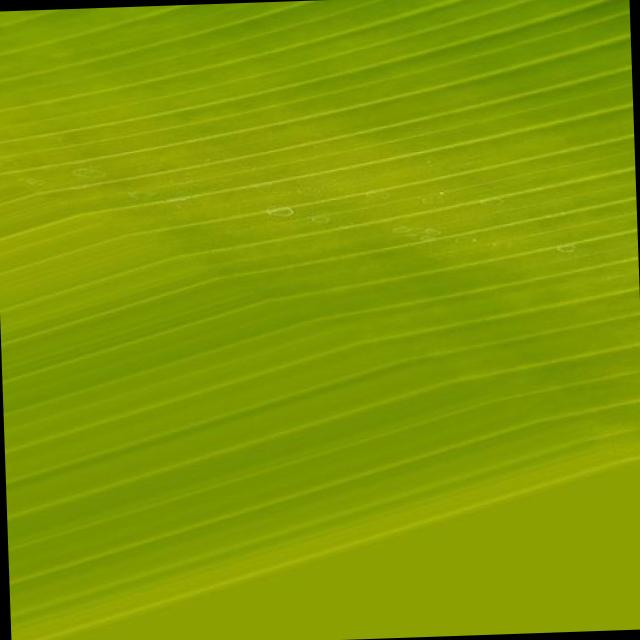Banana_Healthy: (116, 84, 536, 456)
